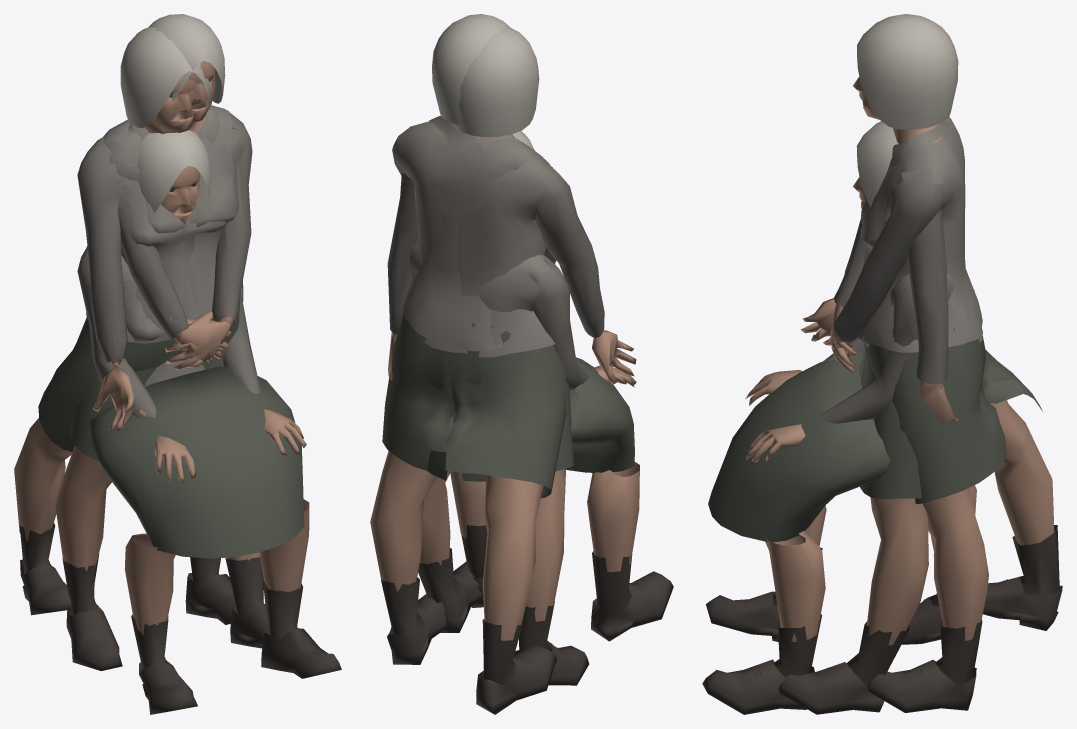
The model's file is crowd-03-crowd.glb.
3 views of the same model, side by side, from view 1: azimuth 30°, elevation 25°; view 2: azimuth 150°, elevation 25°; view 3: azimuth 270°, elevation 25° (orthographic). The views are drawn at different scales.
Visible parts, largest first — view 1: seated, standing, walking; view 2: walking, standing, seated; view 3: standing, seated, walking.
Boxes of the visible parts, <box> form: seated: <box>77,130,341,714</box>; standing: <box>55,14,252,670</box>; walking: <box>14,27,299,648</box>; walking: <box>387,26,636,714</box>; standing: <box>370,14,589,685</box>; seated: <box>409,131,673,641</box>; standing: <box>830,14,1006,712</box>; seated: <box>702,121,963,714</box>; walking: <box>778,14,1062,714</box>.
Bounding box in the file's own units: 0.4917 × 1.53 × 0.7508.
